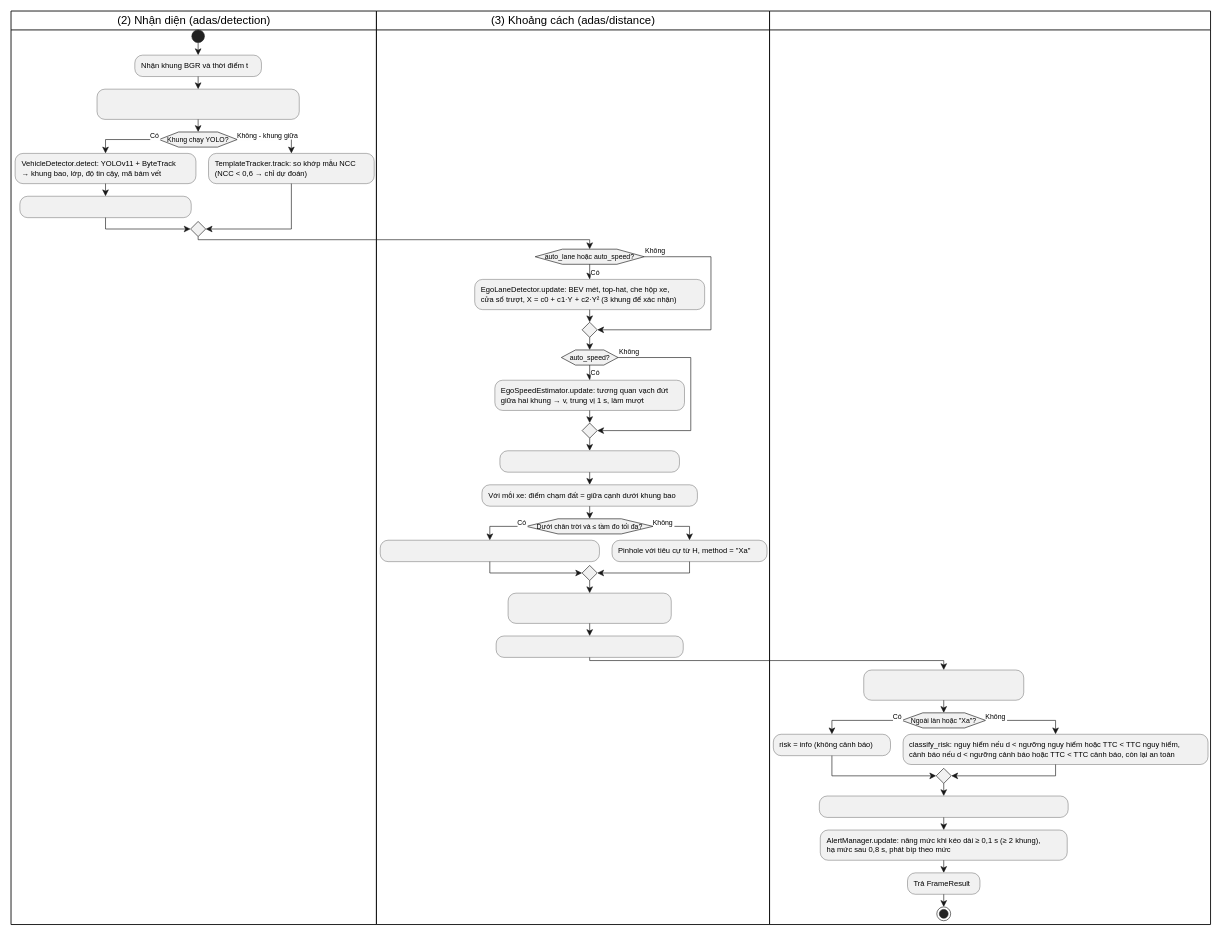
Image size: 1222x936. Some labels were removed from this diagram. The shapes that lost their labels are listed below. From the top down, each one's box as (x1, y1, x2, y2) in pixels, then its label:
(97, 89, 299, 119): Tính N = YOLO mỗi N khung (cấu hình, hoặc tự động ≤ nửa thời gian một khung)
(19, 196, 191, 218): N > 1: neo mẫu cho các khung bám vết sau
(499, 450, 679, 472): Tốc độ = tốc độ đo được, hoặc tốc độ chọn tay
(769, 10, 1211, 925): (4) Cảnh báo (adas/alert)
(380, 540, 599, 562): IPM: image_to_ground → Y (khoảng cách), X (lệch ngang)
(508, 593, 671, 623): RangeKalman theo mã bám vết [d, d', d''] → khoảng cách, tốc độ tiếp cận, TTC
(496, 636, 683, 657): in_ego_lane = làn chứa (X, Y) hoặc |X| ≤ nửa làn
(863, 670, 1024, 700): compute_thresholds(tốc độ, chính sách) → ngưỡng cảnh báo, ngưỡng nguy hiểm
(819, 796, 1068, 817): raw_level = mức cao nhất, xe phía trước = xe cùng làn gần nhất
